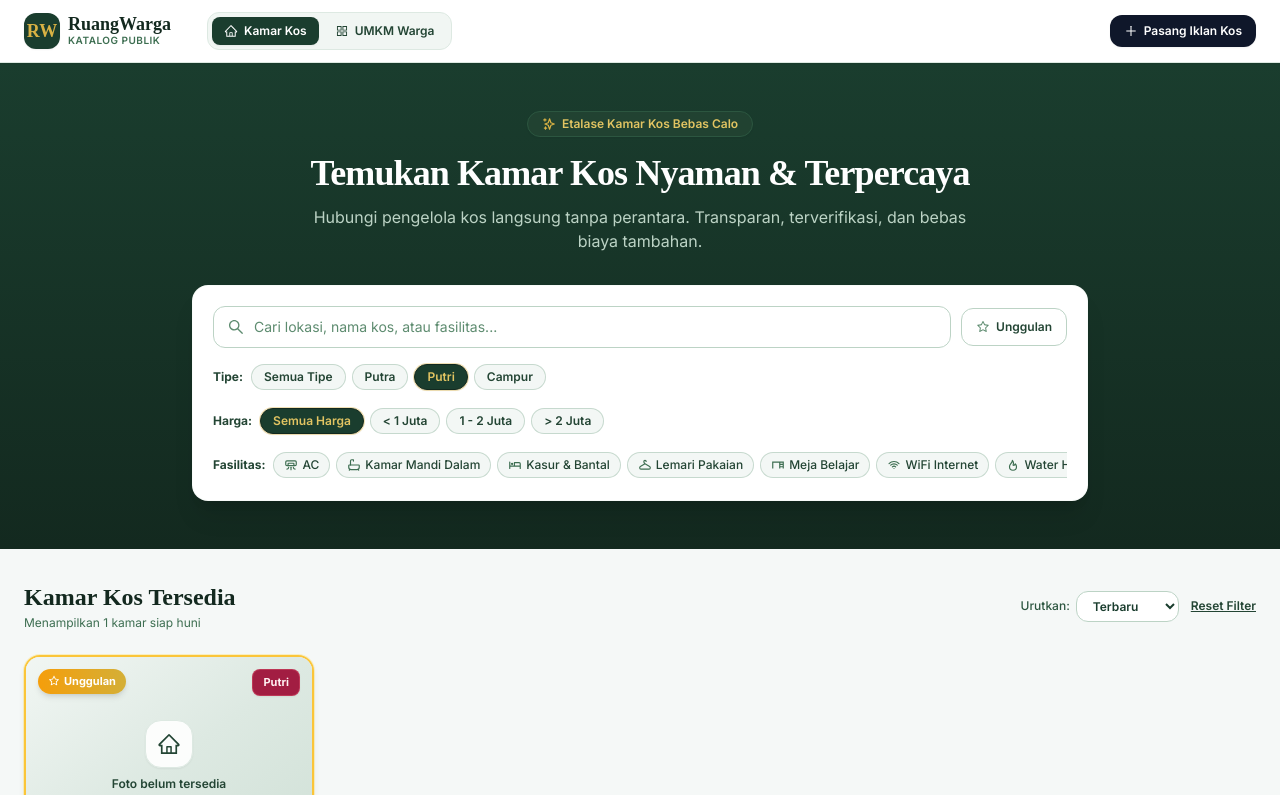
Scenario: RoomListingDirectory & RoomListingCard (LIST-UI-1.2) › LIST-UI-1.3: Sinkronisasi Query String URL & Filter Chips › mengklik tombol Reset Filter membersihkan semua filter aktif
# Klik reset
Click the button with test id "btn-reset-filters" at (1223, 606), box [1191,598,1256,614]
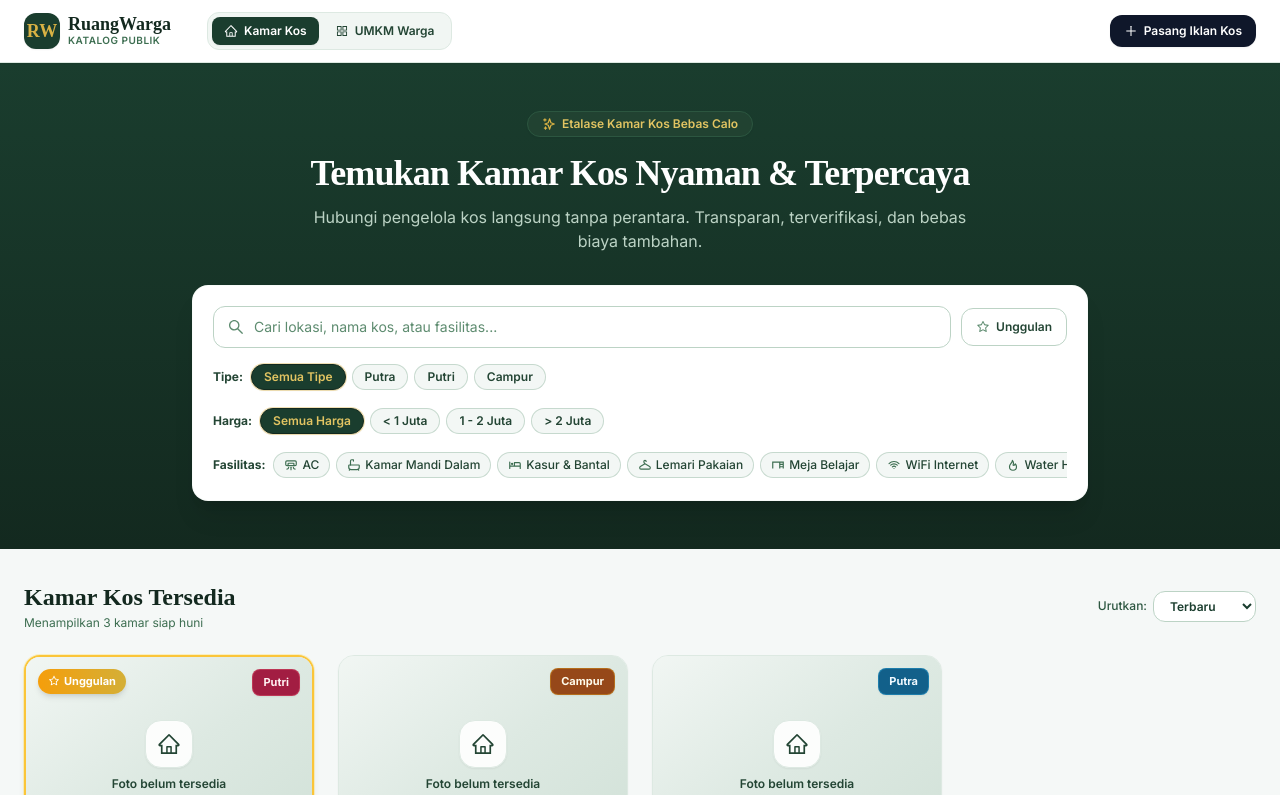
Expected: the button with test id "btn-reset-filters" is gone
